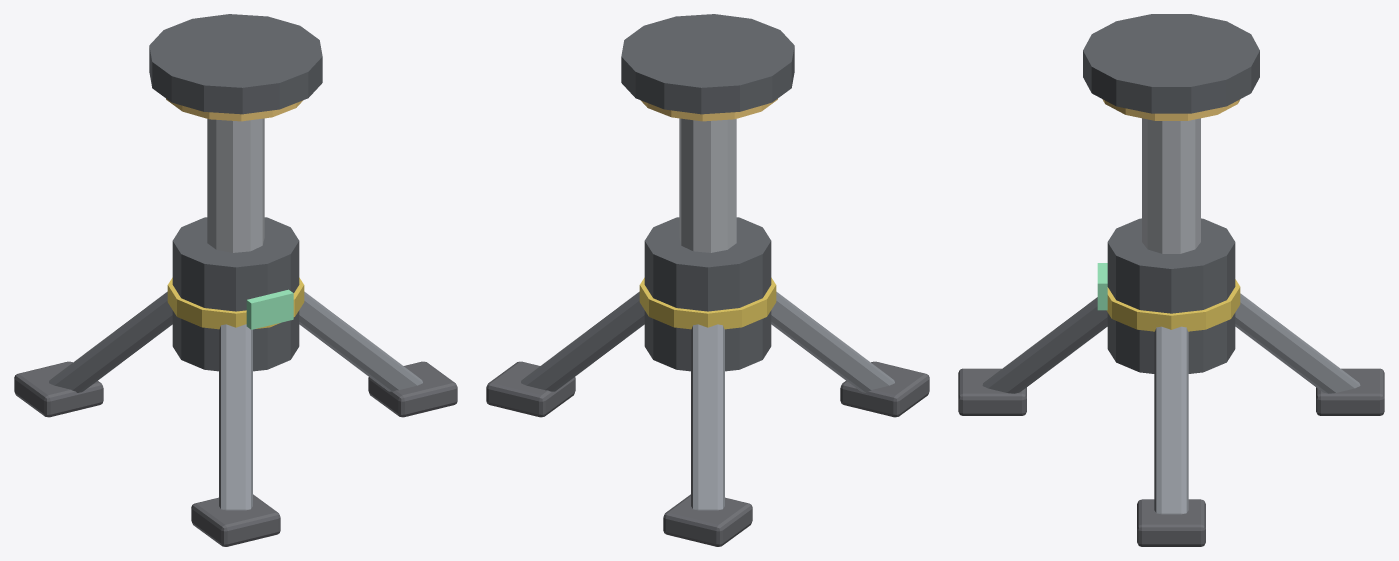
The model's file is eng_sentry_base.fbx.
3 views of the same model, side by side, from view 1: azimuth 30°, elevation 25°; view 2: azimuth 150°, elevation 25°; view 3: azimuth 270°, elevation 25° (orthographic).
Visible parts, largest first — view 1: eng_sentry_base; view 2: eng_sentry_base; view 3: eng_sentry_base.
Part boxes in pixels (<box>): eng_sentry_base: <box>14,14,457,546</box>; eng_sentry_base: <box>486,14,929,546</box>; eng_sentry_base: <box>958,14,1384,546</box>.
Bounding box in the file's own units: 0.77 × 0.89 × 0.8675.
